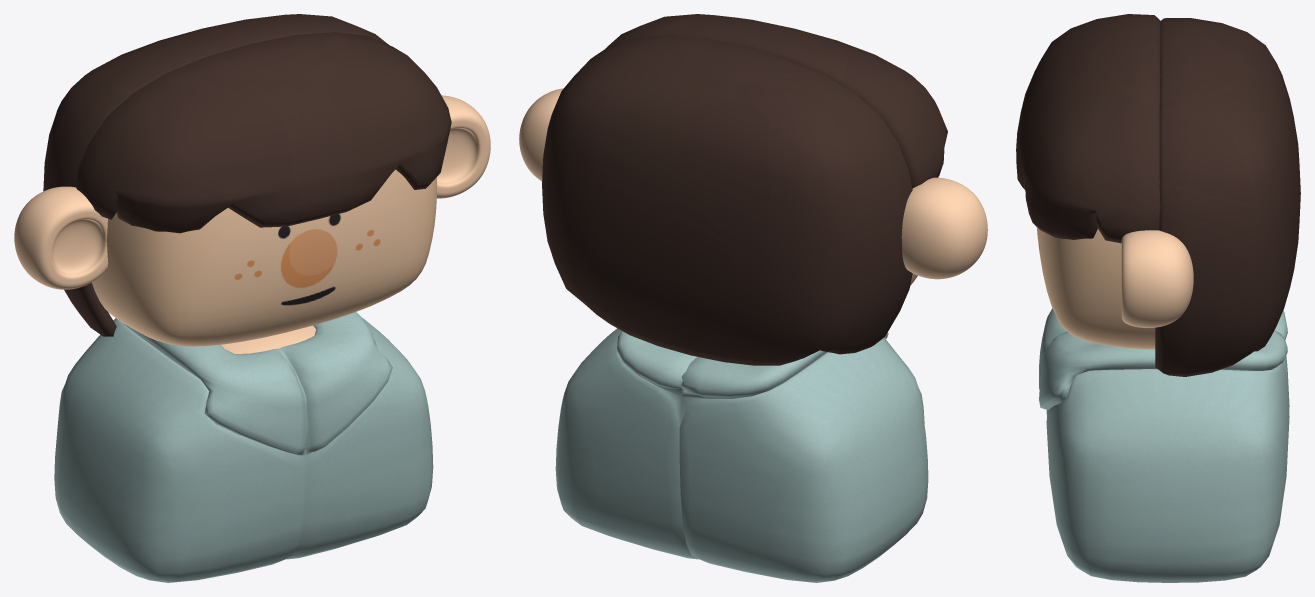
The model's file is boyfinalfinalfinalfinal.fbx.
3 renders of one model, left to right at view 1: azimuth 30°, elevation 25°; view 2: azimuth 150°, elevation 25°; view 3: azimuth 270°, elevation 25°, orthographic. The views are drawn at different scales.
Visible parts, largest first — view 1: body3, head4, head, head2, right_ear, left_ear, body2; view 2: head2, body3, head4, right_ear, left_ear; view 3: body3, head2, head4, head, left_ear.
Boxes of the visible parts, bbox=[...] form: body3: bbox=[54, 312, 433, 582]; head4: bbox=[75, 32, 451, 233]; head: bbox=[91, 169, 436, 346]; head2: bbox=[43, 14, 388, 336]; right_ear: bbox=[14, 186, 108, 289]; left_ear: bbox=[437, 95, 490, 198]; body2: bbox=[221, 325, 315, 353]; head2: bbox=[542, 35, 912, 365]; body3: bbox=[555, 328, 928, 582]; head4: bbox=[605, 14, 947, 188]; right_ear: bbox=[901, 177, 987, 279]; left_ear: bbox=[519, 88, 563, 181]; body3: bbox=[1039, 308, 1289, 582]; head2: bbox=[1155, 18, 1300, 376]; head4: bbox=[1016, 14, 1160, 243]; head: bbox=[1036, 227, 1155, 349]; left_ear: bbox=[1121, 230, 1193, 327].
Size of the model in its own units: 86.06 by 89.78 by 47.78.
Materials: 4 (4 with a texture image).
